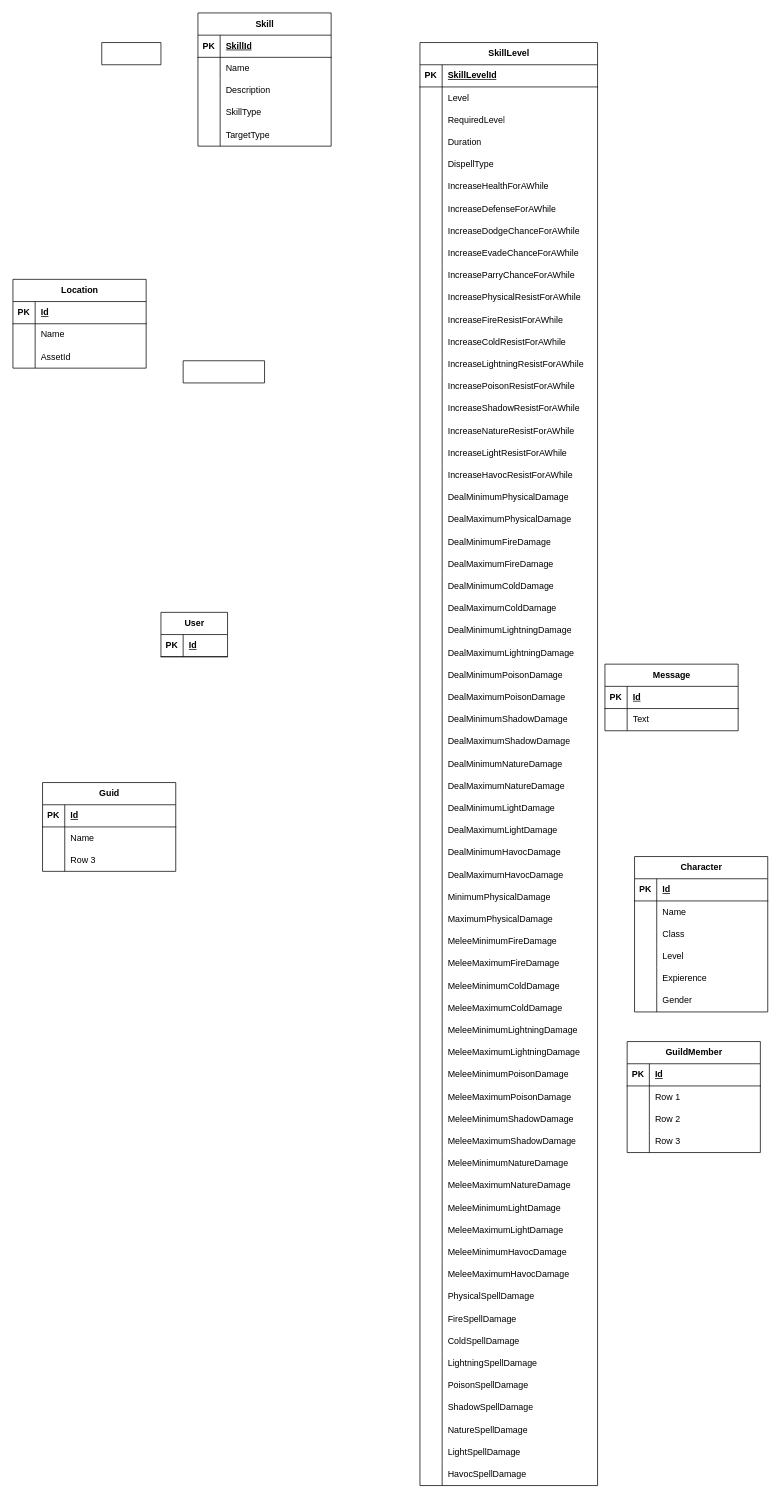
Image size: 781x1499. Some labels were removed from this diagram. Each missing label, with the centre of its shape:
"Enemy" belongs at [131,53].
"LocationRule" belongs at [223,371].
